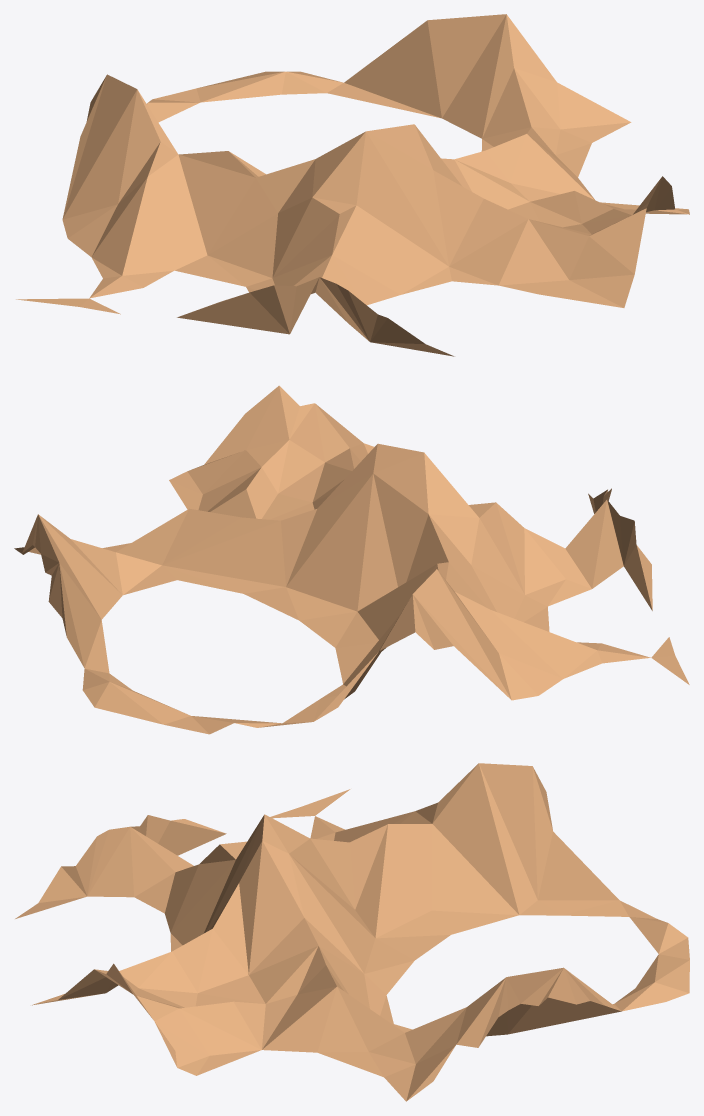
The model's file is MONTAIN_02.fbx.
3 renders of one model, top to bottom at view 1: azimuth 30°, elevation 25°; view 2: azimuth 150°, elevation 25°; view 3: azimuth 270°, elevation 25°, orthographic.
Visible parts, largest first — view 1: Plano; view 2: Plano; view 3: Plano.
Part boxes in pixels (bbox=[...]): Plano: bbox=[16, 14, 689, 356]; Plano: bbox=[14, 385, 689, 734]; Plano: bbox=[15, 763, 689, 1101].
Bounding box in the file's own units: 7556 × 1408 × 6913.
